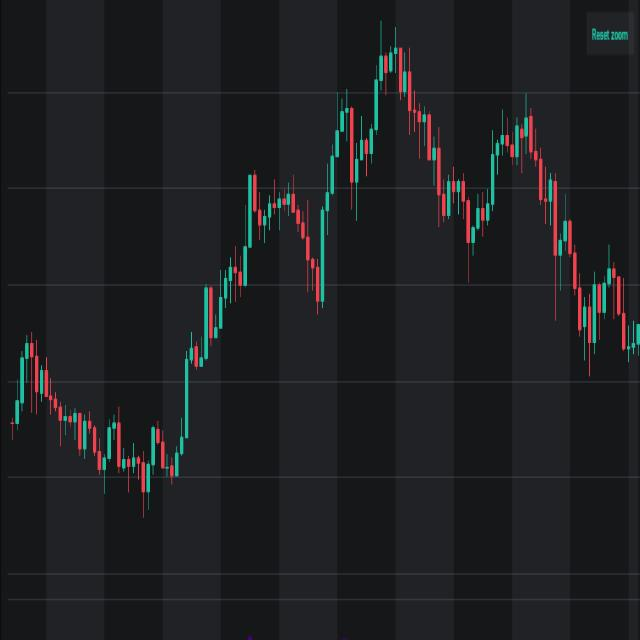Falling-Wedge: (399, 0, 634, 385)
